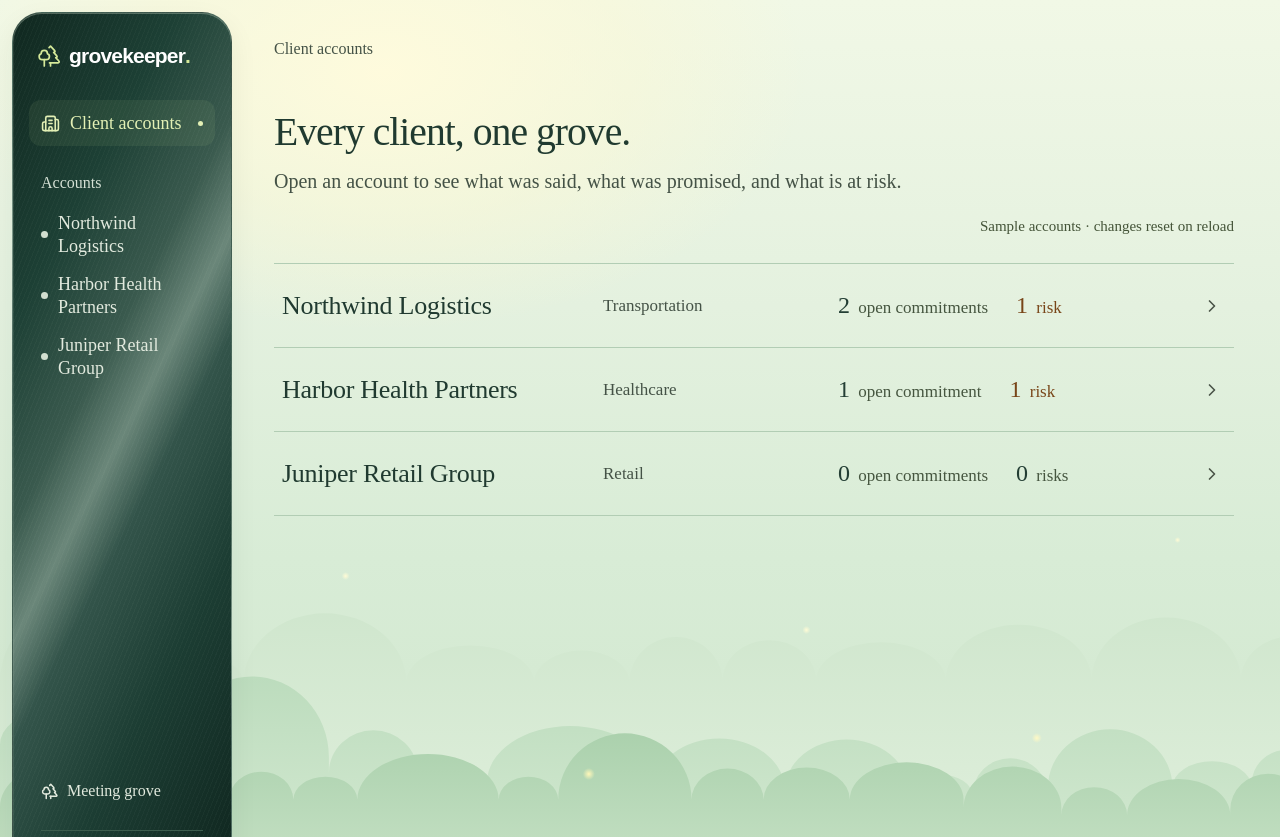
Test: account list › opens the dashboard of the clicked account
The image size is (1280, 837).
Click the button "Harbor Health Partners Healthcare 1 open commitment 1 risk" at (400,390), box [274,348,1234,432]
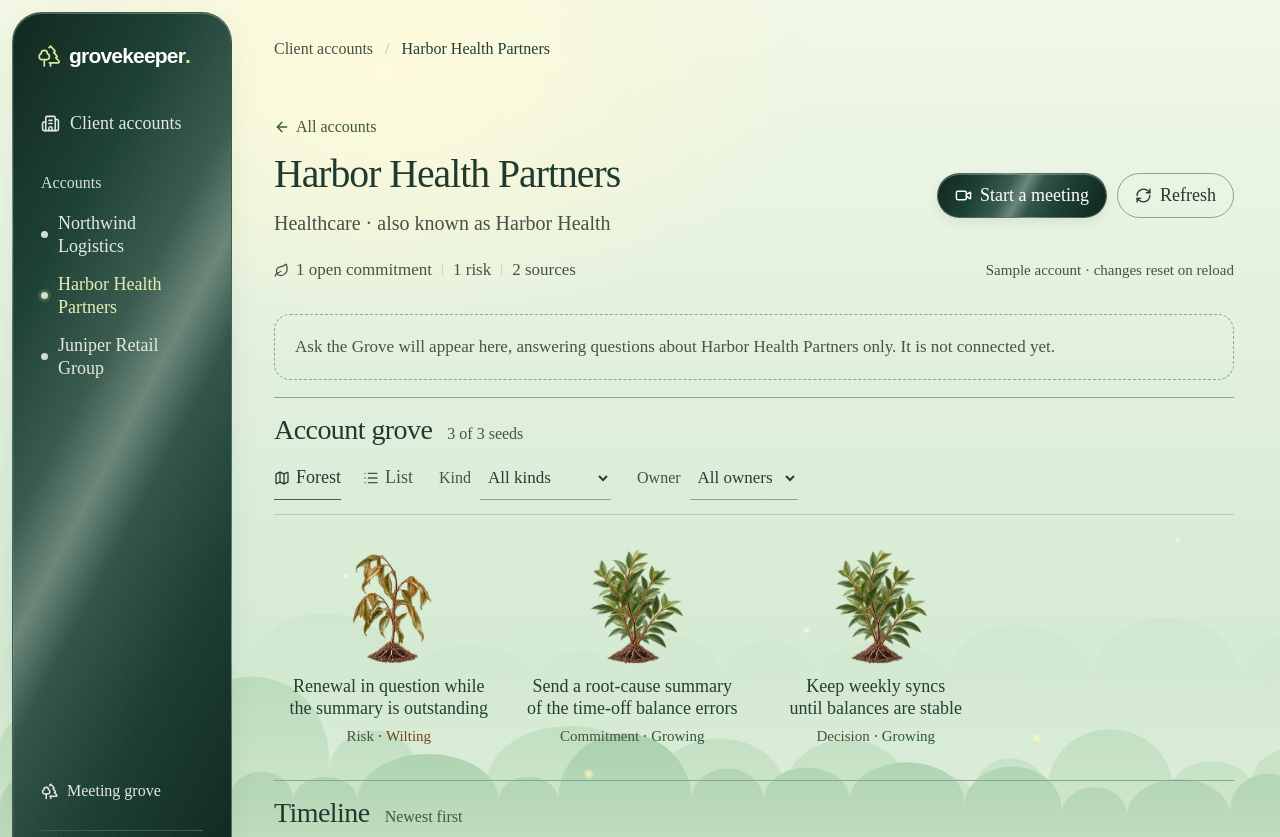
Now the heading "Harbor Health Partners" is shown, box [274,152,620,196]
